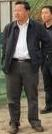boots: (9, 122, 19, 133), (32, 124, 44, 131)
